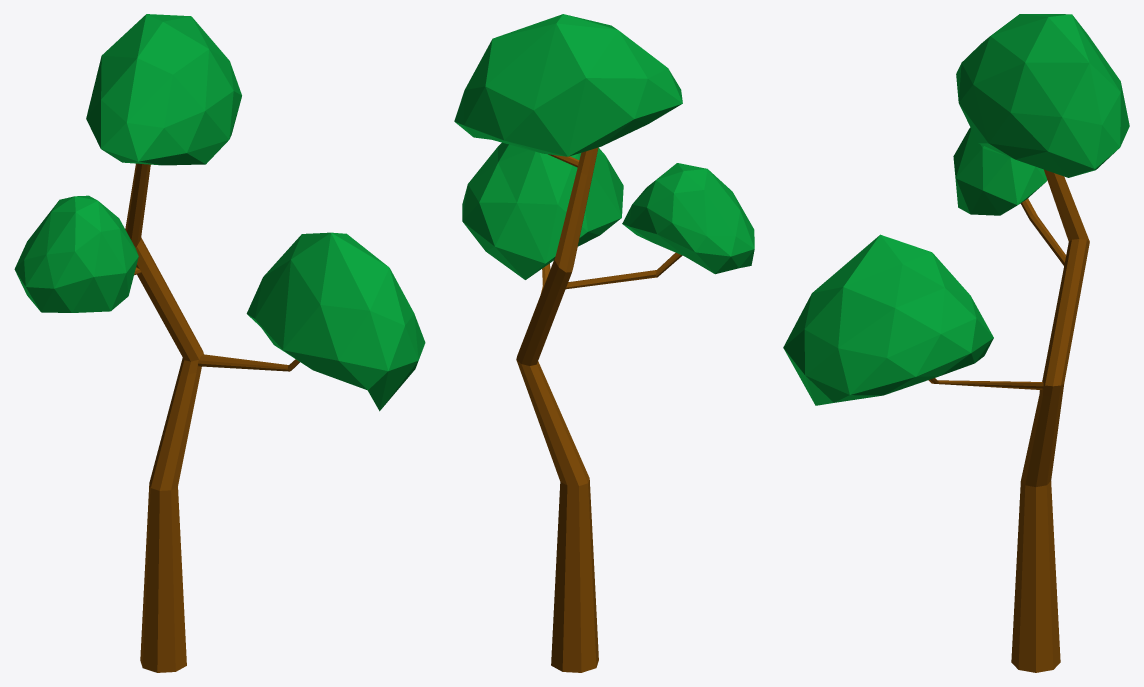
File: darktree.glb
The picture shows the model from 3 angles, left to right: view 1: azimuth 30°, elevation 25°; view 2: azimuth 150°, elevation 25°; view 3: azimuth 270°, elevation 25°; orthographic projection. The views are drawn at different scales.
Parts seen in each view (by area): view 1: Icosphere, Icosphere.002, Cylinder, Icosphere.001; view 2: Icosphere.002, Cylinder, Icosphere, Icosphere.001; view 3: Icosphere, Icosphere.002, Cylinder, Icosphere.001.
Boxes of the visible parts, box(x1,y1,x2,y2) form: Icosphere: box(246, 232, 425, 411); Icosphere.002: box(86, 14, 241, 165); Cylinder: box(125, 163, 299, 672); Icosphere.001: box(14, 195, 138, 312); Icosphere.002: box(454, 14, 682, 156); Cylinder: box(516, 147, 682, 672); Icosphere: box(462, 142, 623, 279); Icosphere.001: box(622, 163, 754, 274); Icosphere: box(783, 234, 993, 405); Icosphere.002: box(956, 14, 1129, 177); Cylinder: box(928, 169, 1089, 672); Icosphere.001: box(953, 127, 1047, 215).
Bounding box in the file's own units: 5.73 × 10.64 × 5.15.
